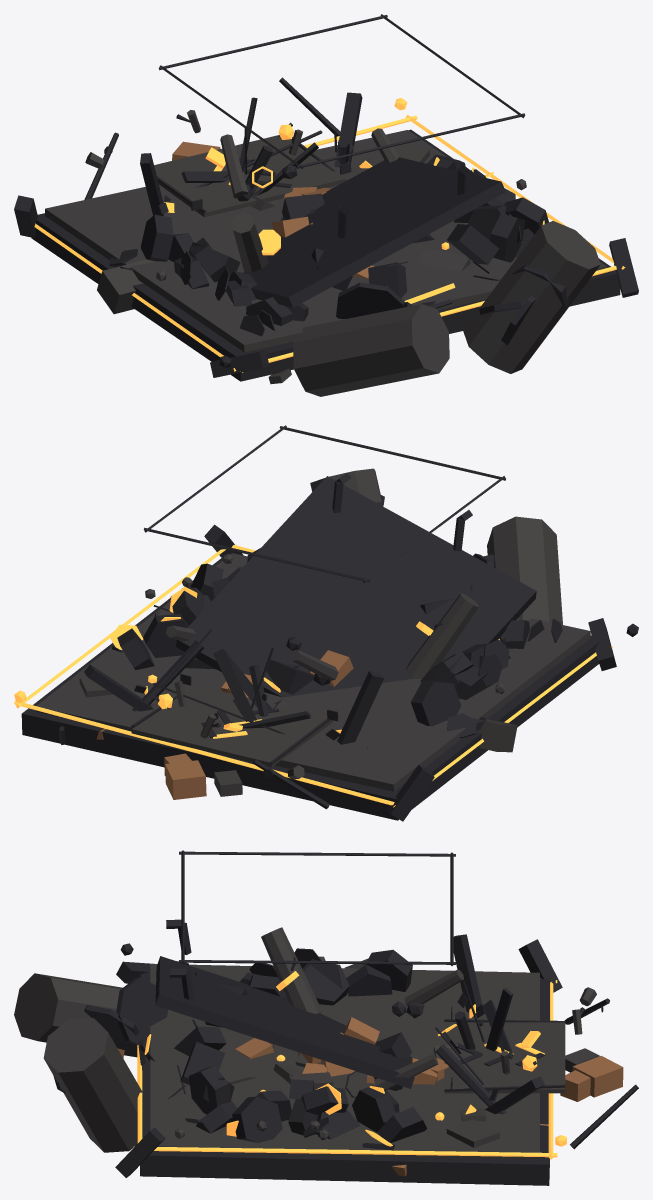
The model's file is Wreck_AssemblyHive.fbx.
3 renders of one model, top to bottom at view 1: azimuth 30°, elevation 25°; view 2: azimuth 150°, elevation 25°; view 3: azimuth 270°, elevation 25°, orthographic. The views are drawn at different scales.
Parts seen in each view (by area): view 1: Wreck_AssemblyHive; view 2: Wreck_AssemblyHive; view 3: Wreck_AssemblyHive.
Part boxes in pixels (<box>): Wreck_AssemblyHive: <box>14,14,638,396</box>; Wreck_AssemblyHive: <box>14,425,638,821</box>; Wreck_AssemblyHive: <box>14,850,638,1185</box>.
Size of the model in its own units: 2.44 by 1.21 by 3.21.
